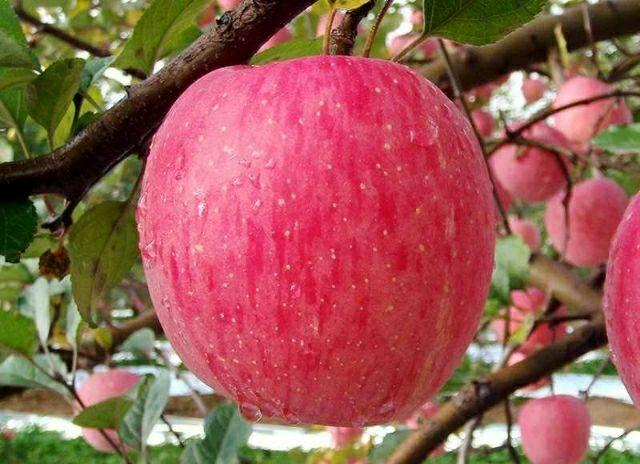apple: (132, 54, 501, 424)
